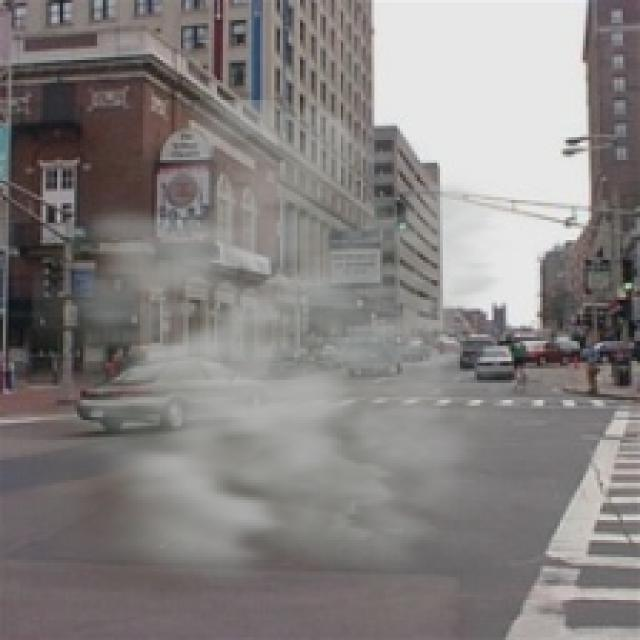smoke: (31, 100, 560, 614)
